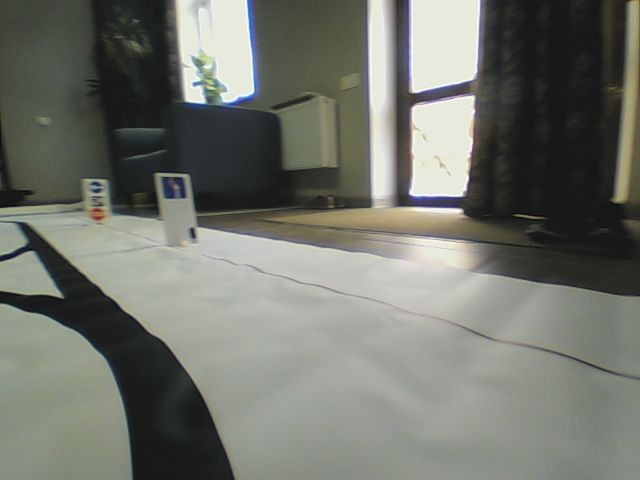priority_movement: (160, 174, 187, 200)
